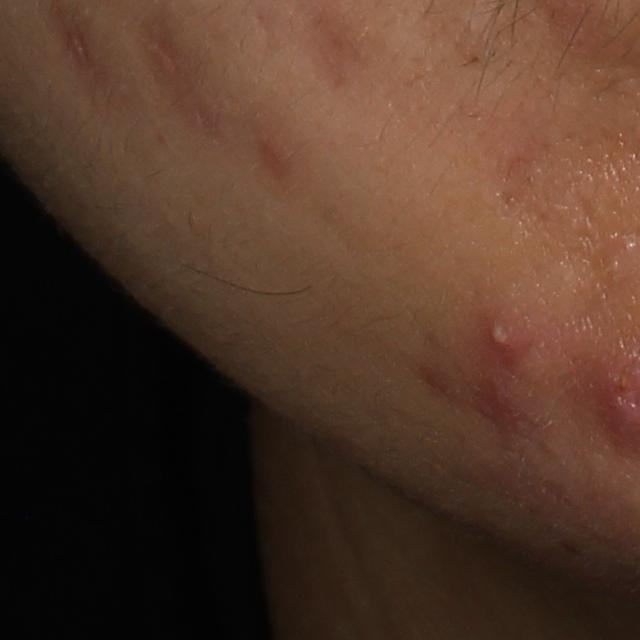atrophic_scar: (237, 129, 366, 250), (152, 24, 229, 142), (293, 0, 386, 96), (424, 371, 536, 445)
pustule: (479, 316, 524, 359)
